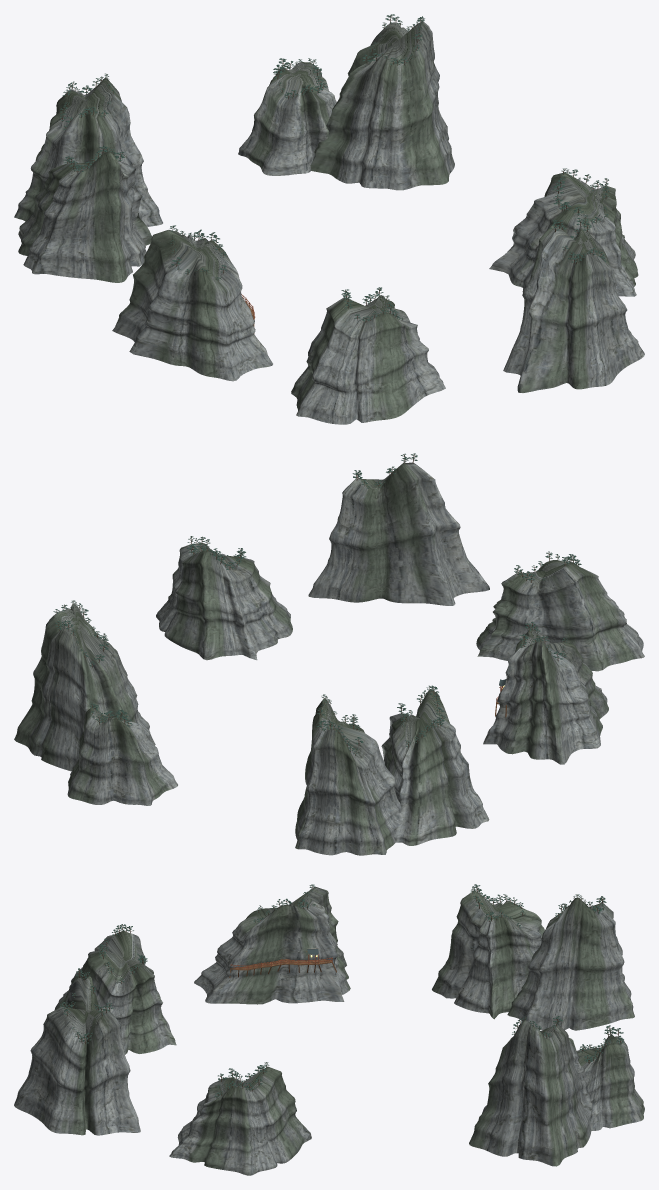
File: ShrineCliffWalk.glb
The picture shows the model from 3 angles, top to bottom: view 1: azimuth 30°, elevation 25°; view 2: azimuth 150°, elevation 25°; view 3: azimuth 270°, elevation 25°; orthographic projection. The views are drawn at different scales.
Visible parts, largest first — view 1: Limestone spurs, Summit pines; view 2: Limestone spurs, Summit pines; view 3: Limestone spurs, Summit pines, West cliff votive path.
Part boxes in pixels (bbox=[...]): Limestone spurs: bbox=[14, 21, 644, 424]; Summit pines: bbox=[59, 14, 609, 322]; Limestone spurs: bbox=[14, 462, 644, 855]; Summit pines: bbox=[53, 453, 581, 755]; Limestone spurs: bbox=[14, 887, 644, 1175]; Summit pines: bbox=[60, 884, 623, 1098]; West cliff votive path: bbox=[229, 948, 336, 977].
Size of the model in its own units: 121 by 34.01 by 149.
Materials: 4 (1 with a texture image).
